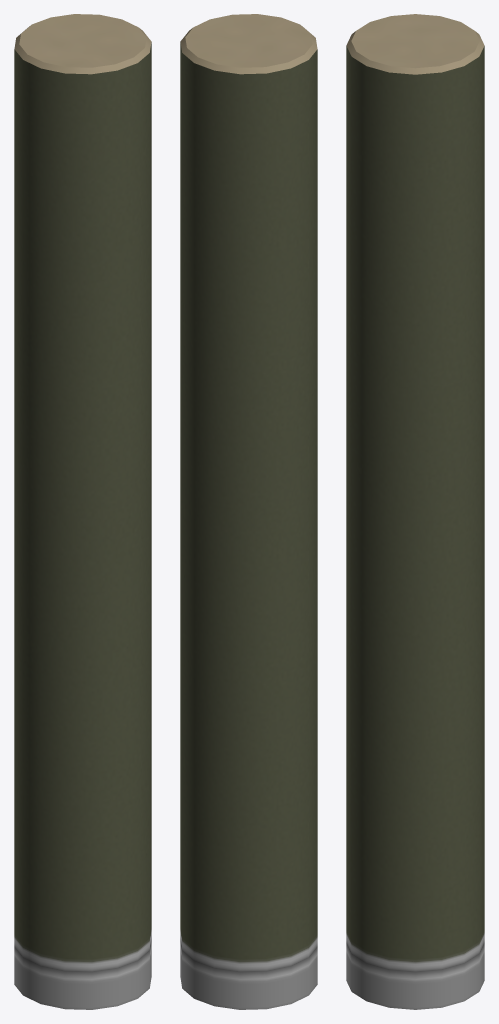
Rendered from column2_2.fbx.
3 renders of one model, left to right at view 1: azimuth 30°, elevation 25°; view 2: azimuth 150°, elevation 25°; view 3: azimuth 270°, elevation 25°, orthographic.
Visible parts, largest first — view 1: column2_b; view 2: column2_b; view 3: column2_b.
Boxes of the visible parts, x1,y1,x2,y2 form: column2_b: [14, 14, 151, 1009]; column2_b: [180, 14, 317, 1009]; column2_b: [346, 14, 484, 1009].
Size of the model in its own units: 80 by 600 by 80.
